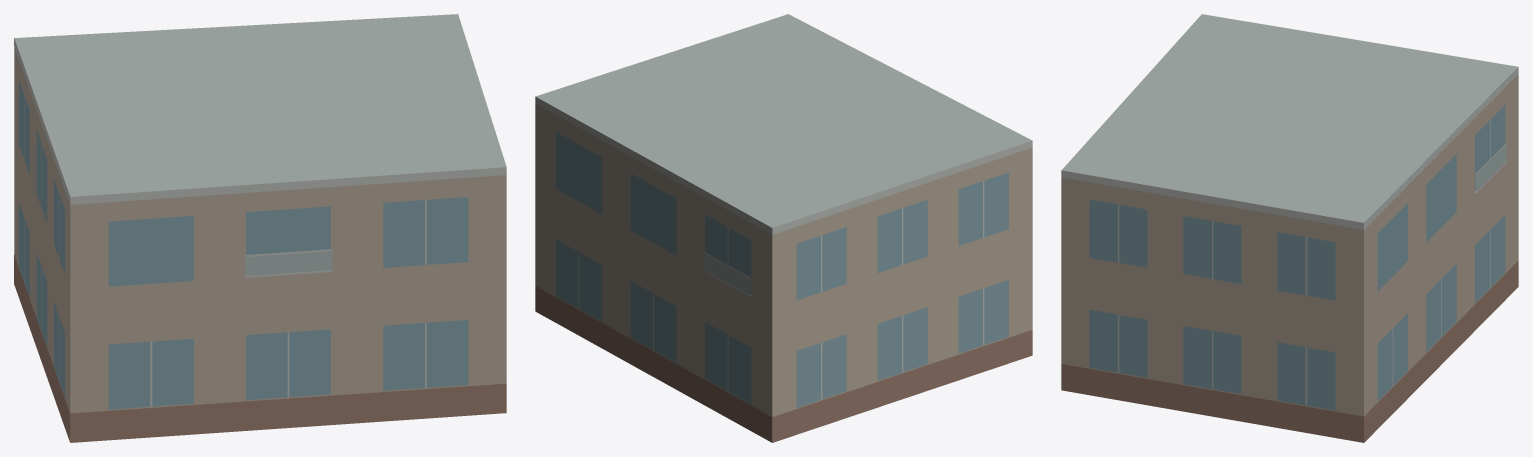
File: survey-upis-33041351.glb
3 views of the same model, side by side, from view 1: azimuth 30°, elevation 25°; view 2: azimuth 150°, elevation 25°; view 3: azimuth 270°, elevation 25° (orthographic). The views are drawn at different scales.
Visible parts, largest first — view 1: survey-upis-33041351.tmp; view 2: survey-upis-33041351.tmp; view 3: survey-upis-33041351.tmp.
Part boxes in pixels (left/top/right/bottom): survey-upis-33041351.tmp: left=14, top=14, right=506, bottom=442; survey-upis-33041351.tmp: left=535, top=14, right=1032, bottom=442; survey-upis-33041351.tmp: left=1061, top=14, right=1518, bottom=442.
Size of the model in its own units: 15.49 by 7.6 by 14.32.
